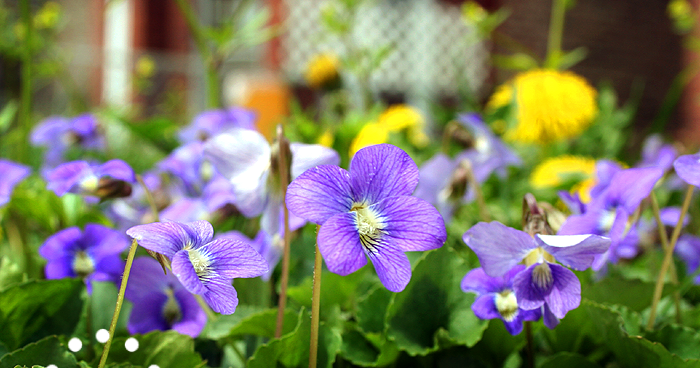violet: (273, 152, 455, 295), (463, 212, 616, 345), (124, 214, 275, 314)
